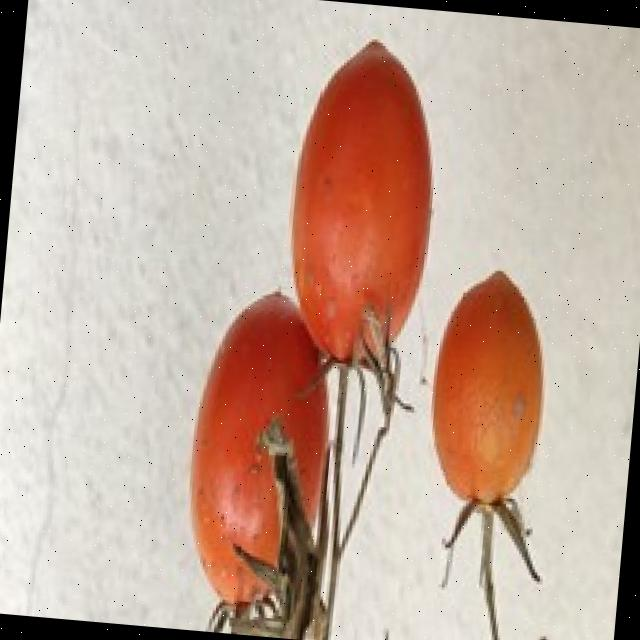tomato: (292, 41, 430, 358), (190, 293, 326, 603)
